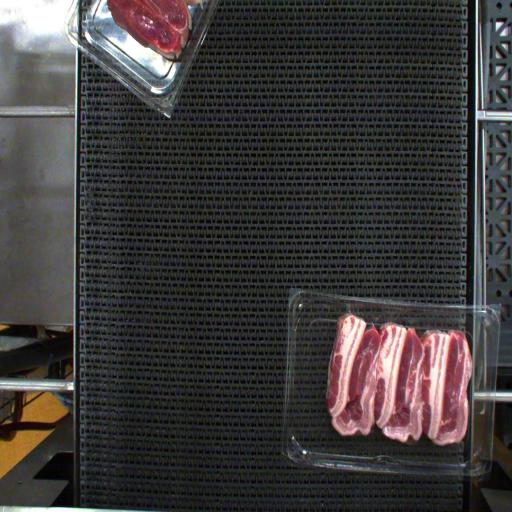packaging-error: (384, 311, 400, 327), (346, 300, 360, 318)
